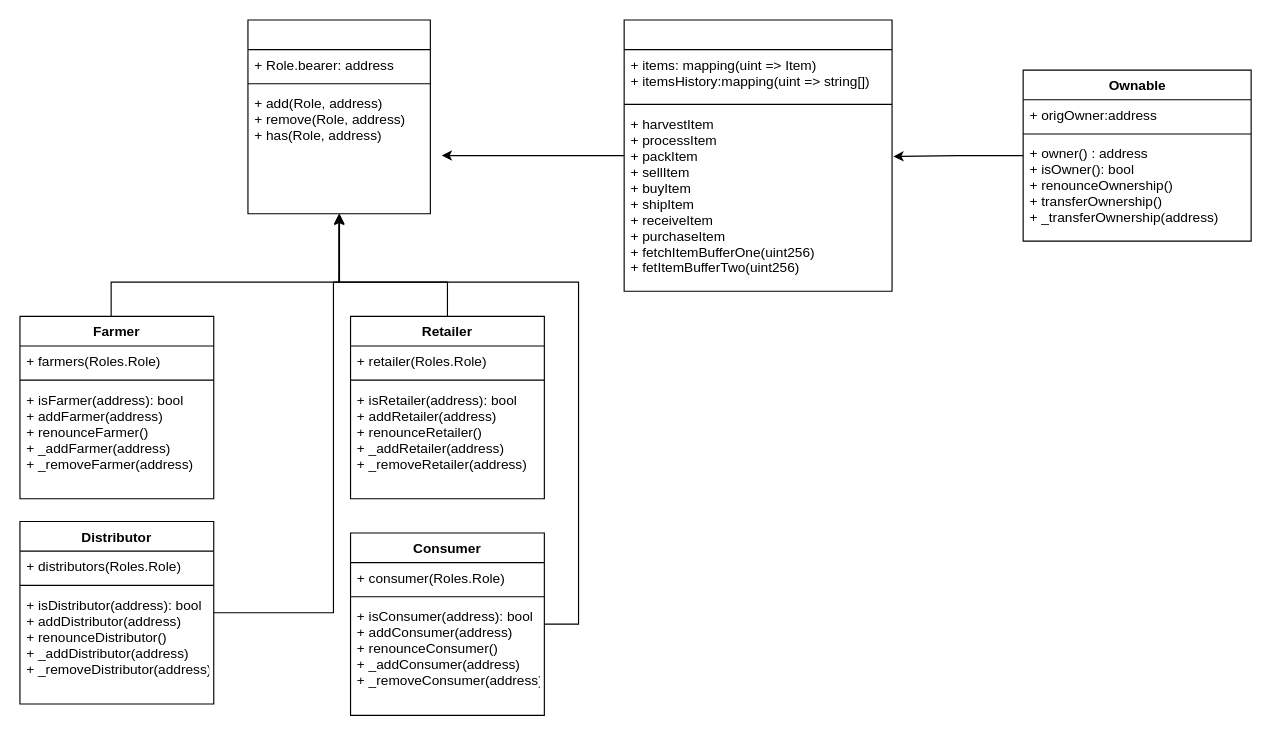
Some shapes in this 1271 by 739 pixel diagram are drawn without their labels. The box of each missing label's shape, as (x1, y1, x2, y2) in pixels:
Roles: (247, 19, 430, 214)
SupplyChain: (623, 19, 892, 291)
